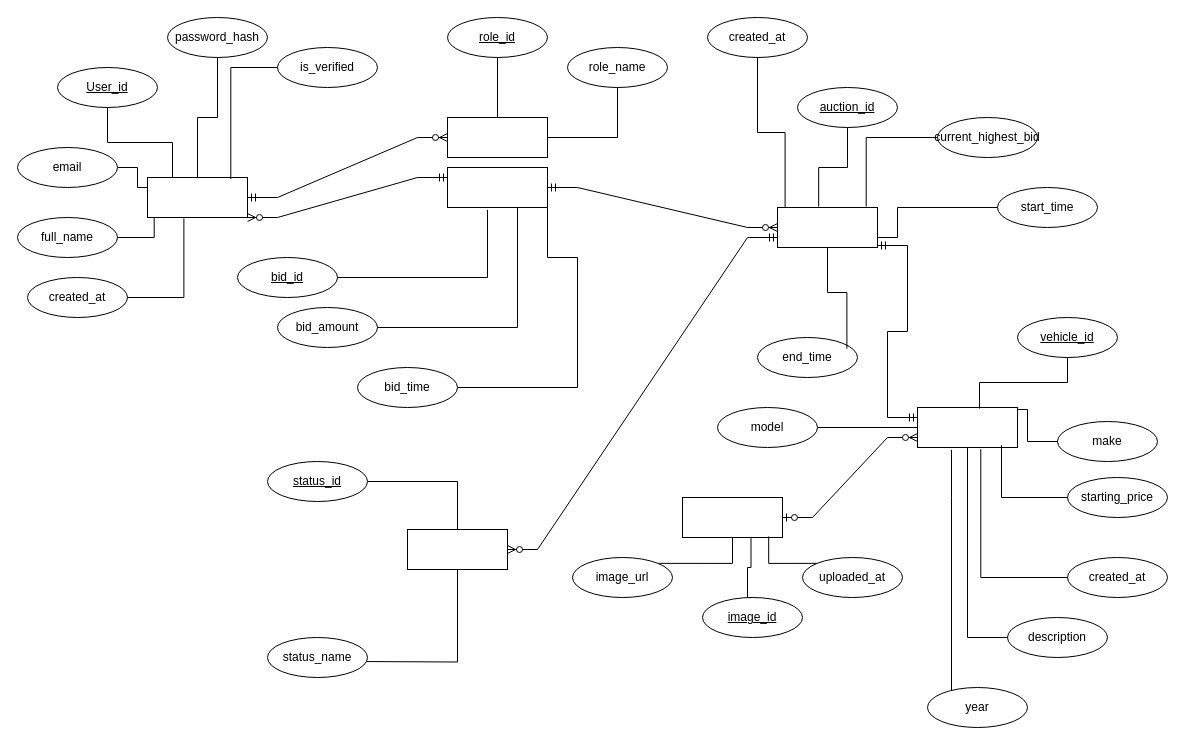
Image size: 1185x745. Some labels were removed from this diagram. The centre of each missing label's shape, as x and y in pixels:
"Auction" goes at point (827, 227).
"AuctionStatus" goes at point (457, 549).
"Bid" goes at point (497, 187).
"Role" goes at point (497, 137).
"User" goes at point (197, 197).
"Vehicle" goes at point (967, 427).
"VehicleImage" goes at point (732, 517).
